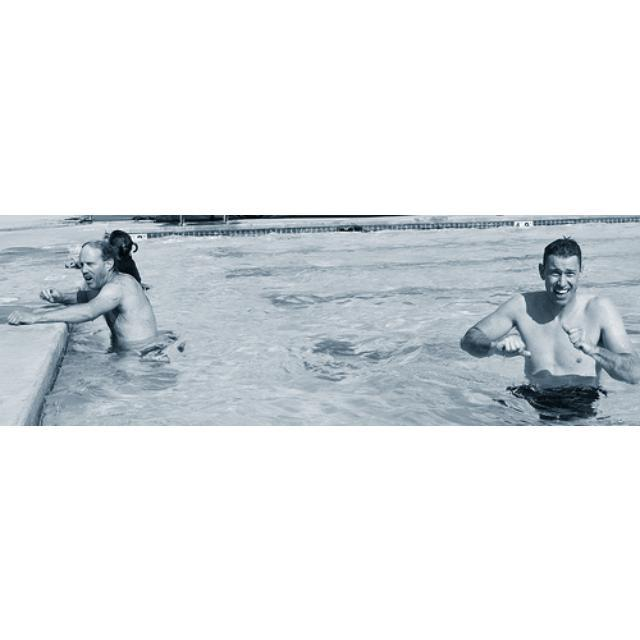human: (463, 234, 639, 423), (12, 240, 150, 355)
